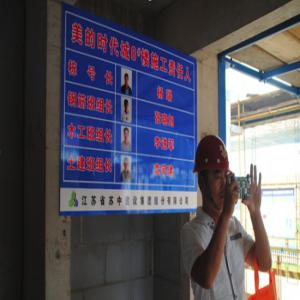red: (193, 133, 231, 215)
